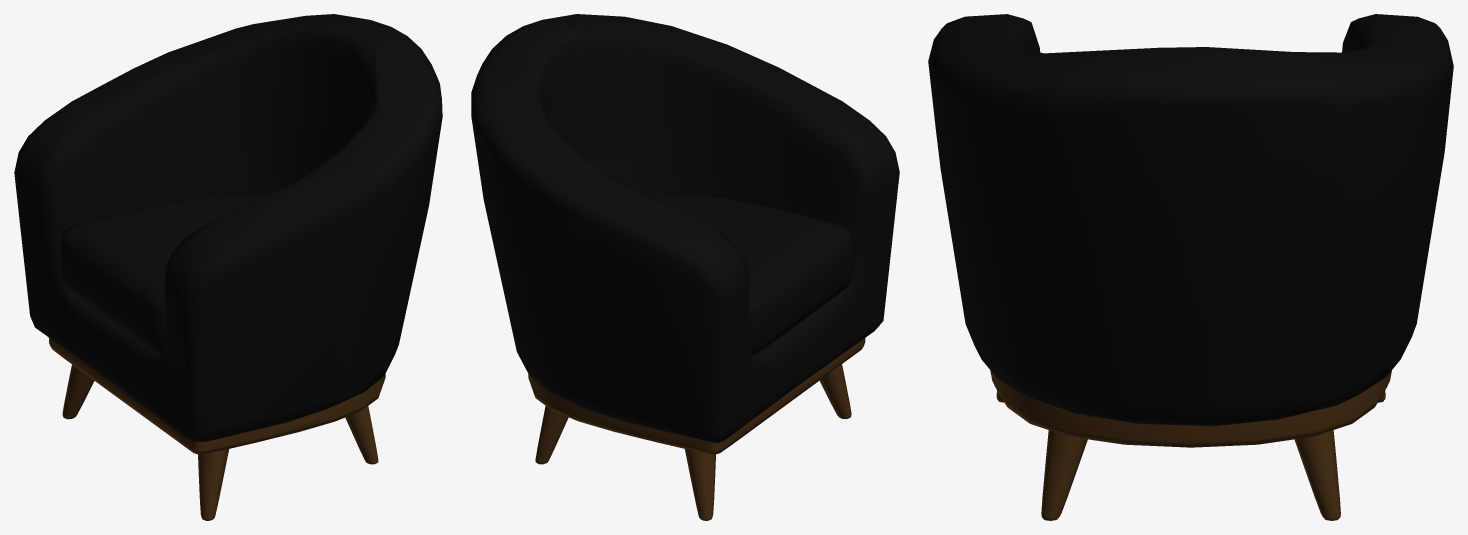
File: armchair_06_leather_black.fbx
The picture shows the model from 3 angles, left to right: view 1: azimuth 30°, elevation 25°; view 2: azimuth 150°, elevation 25°; view 3: azimuth 270°, elevation 25°; orthographic projection. The views are drawn at different scales.
Visible parts, largest first — view 1: armchair_06_leather_black; view 2: armchair_06_leather_black; view 3: armchair_06_leather_black.
Boxes of the visible parts, x1=… form: armchair_06_leather_black: x1=14, y1=14, x2=442, y2=520; armchair_06_leather_black: x1=471, y1=14, x2=899, y2=520; armchair_06_leather_black: x1=928, y1=14, x2=1453, y2=520.
Bounding box in the file's own units: 105 × 120 × 114.
Materials: 1 (1 with a texture image).
